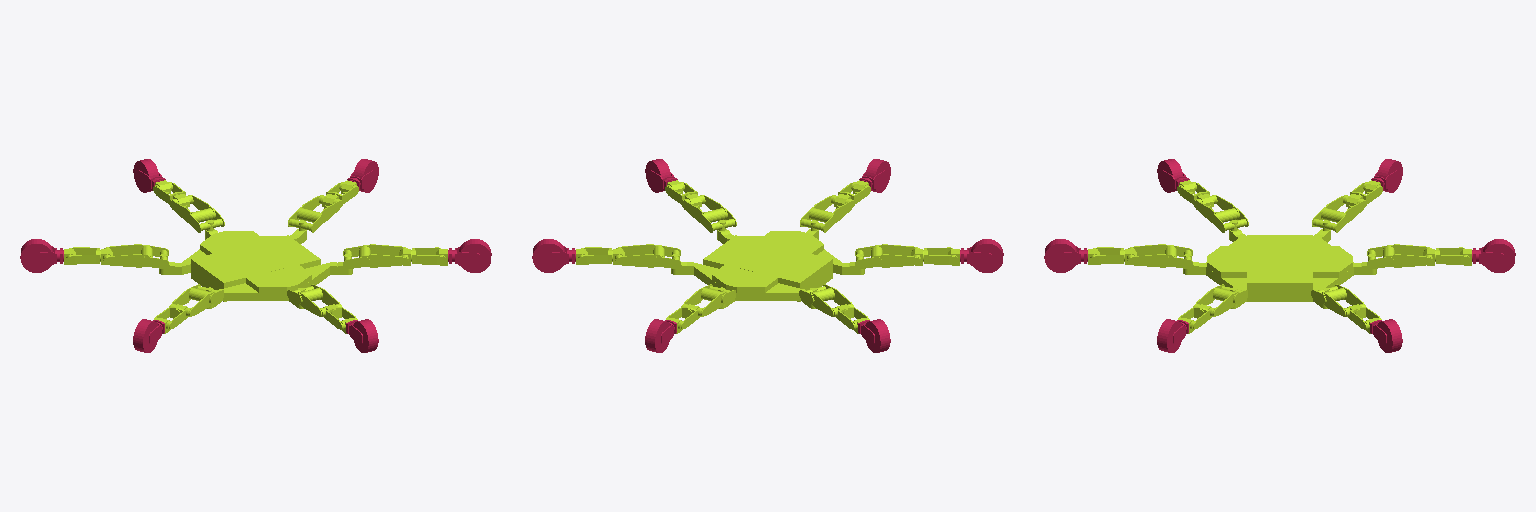
--- Facts derived from the render (not from the file) ---
The picture shows the robot from 3 angles, left to right: view 1: azimuth 30°, elevation 25°; view 2: azimuth 150°, elevation 25°; view 3: azimuth 270°, elevation 25°; orthographic projection.
Model T12 with 37 links and 36 joints (36 revolute), rooted at base_link, posed every joint at zero.
Visible links, largest first — view 1: base_link, Foot3, Foot6, Thigh6, Thigh3, Foot5, Foot4, Foot1, Foot2, Thigh1, Thigh2, Thigh4 (+1 smaller); view 2: base_link, Foot1, Foot4, Thigh4, Thigh1, Foot3, Foot2, Foot5, Foot6, Thigh5, Thigh6, Thigh2 (+1 smaller); view 3: base_link, Foot2, Foot5, Thigh2, Thigh5, Foot1, Foot6, Foot3, Foot4, Thigh3, Thigh4, Thigh1 (+1 smaller).
Link boxes in pixels (x1,y1,x2,y2): base_link: (159, 229, 352, 308); Foot3: (20, 239, 63, 272); Foot6: (448, 239, 491, 272); Thigh6: (359, 244, 408, 267); Thigh3: (103, 244, 152, 267); Foot5: (346, 319, 378, 352); Foot4: (133, 319, 164, 352); Foot1: (347, 159, 378, 192); Foot2: (133, 159, 165, 192); Thigh1: (297, 195, 342, 222); Thigh2: (169, 195, 215, 222); Thigh4: (169, 287, 213, 316); base_link: (671, 229, 864, 308); Foot1: (532, 239, 575, 272); Foot4: (960, 239, 1003, 272); Thigh4: (871, 244, 920, 267); Thigh1: (615, 244, 664, 267); Foot3: (858, 319, 890, 352); Foot2: (645, 319, 676, 352); Foot5: (859, 159, 890, 192); Foot6: (645, 159, 677, 192); Thigh5: (809, 195, 854, 222); Thigh6: (681, 195, 727, 222); Thigh2: (681, 287, 725, 316); base_link: (1183, 229, 1376, 308); Foot2: (1472, 239, 1515, 272); Foot5: (1044, 239, 1087, 272); Thigh2: (1383, 244, 1432, 267); Thigh5: (1127, 244, 1176, 267); Foot1: (1370, 319, 1402, 352); Foot6: (1157, 319, 1188, 352); Foot3: (1371, 159, 1402, 192); Foot4: (1157, 159, 1189, 192); Thigh3: (1321, 195, 1366, 222); Thigh4: (1193, 195, 1239, 222); Thigh1: (1322, 287, 1365, 316).
Bounding box of the posed robot: 8.98 × 10.23 × 0.892 m (x, y, z).
Meshes: 37 distinct files referenced, 37 mesh visuals loaded (37 binary STL).

URDF robot description (T12):
<?xml version="1.0"?>
<robot name="T12">
    <material name="lime">
        <color rgba="0.8 0.94 0.26 1" />
    </material>

    <material name="rose">
        <color rgba="0.8 0.2 0.39 1" />
    </material>

    <link name="base_link">
        <inertial>
            <origin xyz="0.015789 0.0084982 0.11668" rpy="0 0 0" />
            <mass value="266.06" />
            <inertia
                ixx="225.36"
                ixy="0.054583"
                ixz="0.010358"
                iyy="210.35"
                iyz="-0.0001937"
                izz="424.6" />
        </inertial>
        <visual>
            <origin xyz="0 0 0" rpy="0 0 0" />
            <geometry>
                <mesh filename="package://t12_description/meshes/Body.STL" />
            </geometry>
            <material name="lime" />
        </visual>
        <collision>
            <origin xyz="0 0 0" rpy="0 0 0" />
            <geometry>
                <mesh filename="package://t12_description/meshes/Body.STL" />
            </geometry>
        </collision>
    </link>

    <link name="Hip1">
        <inertial>
            <origin xyz="0.12059 0.04703 -0.043975" rpy="0 0 0" />
            <mass value="10.161" />
            <inertia
                ixx="0.69317"
                ixy="0.0073762"
                ixz="0.040711"
                iyy="0.34376"
                iyz="0.0014897"
                izz="0.9152" />
        </inertial>
        <visual>
            <origin xyz="0 0 0" rpy="0 0 0" />
            <geometry>
                <mesh filename="package://t12_description/meshes/Hip1.STL" />
            </geometry>
            <material name="lime" />
        </visual>
        <collision>
            <origin xyz="0 0 0" rpy="0 0 0" />
            <geometry>
                <mesh filename="package://t12_description/meshes/Hip1.STL" />
            </geometry>
        </collision>
    </link>
    <joint name="HY1" type="revolute">
        <origin xyz="1.7322 0.99572 0.41034" rpy="-4.4608E-16 2.8513E-16 0.5236" />
        <parent link="base_link" />
        <child link="Hip1" />
        <axis xyz="0 0 -1" />
        <limit
            lower="-3.1416"
            upper="3.1416"
            effort="2700"
            velocity="0" />
    </joint>

    <link name="Thigh1">
        <inertial>
            <origin
                xyz="0.37052 1.2567E-08 -0.0016621"
                rpy="0 0 0" />
            <mass value="14.238" />
            <inertia
                ixx="1.0008"
                ixy="7.0442E-08"
                ixz="0.0087687"
                iyy="2.0253"
                iyz="-0.00024727"
                izz="1.3252" />
        </inertial>
        <visual>
            <origin xyz="0 0 0" rpy="0 0 0" />
            <geometry>
                <mesh filename="package://t12_description/meshes/Thigh1.STL" />
            </geometry>
            <material name="lime" />
        </visual>
        <collision>
            <origin xyz="0 0 0" rpy="0 0 0" />
            <geometry>
                <mesh filename="package://t12_description/meshes/Thigh1.STL" />
            </geometry>
        </collision>
    </link>
    <joint name="HP1" type="revolute">
        <origin
            xyz="0.36808 0 0"
            rpy="-1.5708 1.2704E-14 -2.2204E-16" />
        <parent link="Hip1" />
        <child link="Thigh1" />
        <axis xyz="0 0 -1" />
        <limit
            lower="-1.9199"
            upper="1.5708"
            effort="7500"
            velocity="0" />
    </joint>

    <link name="Knee1">
        <inertial>
            <origin
                xyz="0.017762 -0.027385 0.0067752"
                rpy="0 0 0" />
            <mass
                value="5.7913" />
            <inertia
                ixx="0.12768"
                ixy="0.0042111"
                ixz="-0.00069417"
                iyy="0.12196"
                iyz="0.0012334"
                izz="0.079088" />
        </inertial>
        <visual>
            <origin
                xyz="0 0 0"
                rpy="0 0 0" />
            <geometry>
                <mesh
                    filename="package://t12_description/meshes/Knee1.STL" />
            </geometry>
            <material name="lime" />
        </visual>
        <collision>
            <origin
                xyz="0 0 0"
                rpy="0 0 0" />
            <geometry>
                <mesh
                    filename="package://t12_description/meshes/Knee1.STL" />
            </geometry>
        </collision>
    </link>
    <joint
        name="KP1"
        type="revolute">
        <origin
            xyz="0.8627 0 0"
            rpy="2.2204E-16 2.6822E-16 1.5708" />
        <parent
            link="Thigh1" />
        <child
            link="Knee1" />
        <axis
            xyz="0 0 -1" />
        <limit
            lower="-1.9199"
            upper="3.1416"
            effort="2700"
            velocity="0" />
    </joint>
    <link
        name="Shin1">
        <inertial>
            <origin
                xyz="-1.4482E-09 0.00011789 0.4127"
                rpy="0 0 0" />
            <mass
                value="10.201" />
            <inertia
                ixx="0.7541"
                ixy="-0.00016423"
                ixz="3.2671E-09"
                iyy="0.53994"
                iyz="-0.00028063"
                izz="0.35892" />
        </inertial>
        <visual>
            <origin
                xyz="0 0 0"
                rpy="0 0 0" />
            <geometry>
                <mesh
                    filename="package://t12_description/meshes/Shin1.STL" />
            </geometry>
            <material name="lime" />
        </visual>
        <collision>
            <origin
                xyz="0 0 0"
                rpy="0 0 0" />
            <geometry>
                <mesh
                    filename="package://t12_description/meshes/Shin1.STL" />
            </geometry>
        </collision>
    </link>
    <joint
        name="KR1"
        type="revolute">
        <origin
            xyz="0 0 0"
            rpy="1.5708 -2.7791E-17 8.7217E-15" />
        <parent
            link="Knee1" />
        <child
            link="Shin1" />
        <axis
            xyz="0 0 -1" />
        <limit
            lower="-3.1416"
            upper="3.1416"
            effort="900"
            velocity="0" />
    </joint>


    <link name="Ankle1">
        <inertial>
            <origin
                xyz="0.020168 -0.026001 0.0079686"
                rpy="0 0 0" />
            <mass
                value="5.108" />
            <inertia
                ixx="0.094931"
                ixy="0.0040571"
                ixz="-0.00081815"
                iyy="0.089357"
                iyz="0.00089845"
                izz="0.073015" />
        </inertial>
        <visual>
            <origin
                xyz="0 0 0"
                rpy="0 0 0" />
            <geometry>
                <mesh filename="package://t12_description/meshes/Ankle1.STL" />
            </geometry>
            <material name="lime" />
        </visual>
        <collision>
            <origin
                xyz="0 0 0"
                rpy="0 0 0" />
            <geometry>
                <mesh filename="package://t12_description/meshes/Ankle1.STL" />
            </geometry>
        </collision>
    </link>
    <joint name="AP1" type="revolute">
        <origin
            xyz="0 0 0.79818"
            rpy="-1.5708 -1.3823E-15 -9.3729E-17" />
        <parent
            link="Shin1" />
        <child
            link="Ankle1" />
        <axis
            xyz="0 0 -1" />
        <limit
            lower="-2.0944"
            upper="2.0944"
            effort="1350"
            velocity="0" />
    </joint>


    <link name="Foot1">
        <inertial>
            <origin
                xyz="-3.0189E-05 0.0041753 0.55175"
                rpy="0 0 0" />
            <mass
                value="27.416" />
            <inertia
                ixx="2.0991"
                ixy="-4.1499E-05"
                ixz="6.0881E-05"
                iyy="2.468"
                iyz="0.023298"
                izz="0.8501" />
        </inertial>
        <visual>
            <origin
                xyz="0 0 0"
                rpy="0 0 0" />
            <geometry>
                <mesh
                    filename="package://t12_description/meshes/Foot1.STL" />
            </geometry>
            <material name="rose" />
        </visual>
        <collision>
            <origin
                xyz="0 0 0"
                rpy="0 0 0" />
            <geometry>
                <mesh filename="package://t12_description/meshes/Foot1.STL" />
            </geometry>
        </collision>
    </link>
    <joint
        name="AR1"
        type="revolute">
        <origin
            xyz="0 0 0"
            rpy="1.5708 4.5989E-16 1.2639E-15" />
        <parent
            link="Ankle1" />
        <child
            link="Foot1" />
        <axis
            xyz="0 0 -1" />
        <limit
            lower="-3.1416"
            upper="3.1416"
            effort="900"
            velocity="0" />
    </joint>


    <!-- LEG 2 -->
    <link name="Hip2">
        <inertial>
            <origin
                xyz="0.11841 0.050794 -0.043975"
                rpy="0 0 0" />
            <mass value="10.161" />
            <inertia
                ixx="0.69317"
                ixy="0.0073791"
                ixz="0.040711"
                iyy="0.34375"
                iyz="0.0014908"
                izz="0.91521" />
        </inertial>
        <visual>
            <origin
                xyz="0 0 0"
                rpy="0 0 0" />
            <geometry>
                <mesh filename="package://t12_description/meshes/Hip2.STL" />
            </geometry>
            <material name="lime" />
        </visual>
        <collision>
            <origin
                xyz="0 0 0"
                rpy="0 0 0" />
            <geometry>
                <mesh filename="package://t12_description/meshes/Hip2.STL" />
            </geometry>
        </collision>
    </link>
    <joint name="HY2" type="revolute">
        <origin
            xyz="0.0037717 1.998 0.41034"
            rpy="-4.4608E-16 2.8513E-16 1.5708" />
        <parent
            link="base_link" />
        <child
            link="Hip2" />
        <axis
            xyz="0 0 -1" />
        <limit
            lower="-3.1416"
            upper="3.1416"
            effort="2700"
            velocity="0" />
    </joint>


    <link name="Thigh2">
        <inertial>
            <origin
                xyz="0.36835 1.2571E-08 0.0020978"
                rpy="0 0 0" />
            <mass
                value="14.238" />
            <inertia
                ixx="1.0008"
                ixy="7.0776E-08"
                ixz="0.0088078"
                iyy="2.0253"
                iyz="-0.00024727"
                izz="1.3252" />
        </inertial>
        <visual>
            <origin
                xyz="0 0 0"
                rpy="0 0 0" />
            <geometry>
                <mesh
                    filename="package://t12_description/meshes/Thigh2.STL" />
            </geometry>
            <material name="lime" />
        </visual>
        <collision>
            <origin
                xyz="0 0 0"
                rpy="0 0 0" />
            <geometry>
                <mesh filename="package://t12_description/meshes/Thigh2.STL" />
            </geometry>
        </collision>
    </link>
    <joint name="HP2" type="revolute">
        <origin
            xyz="0.36808 0 0"
            rpy="-1.5708 1.2704E-14 -2.1472E-16" />
        <parent link="Hip2" />
        <child link="Thigh2" />
        <axis xyz="0 0 -1" />
        <limit
            lower="-1.9199"
            upper="1.5708"
            effort="7500"
            velocity="0" />
    </joint>


    <link name="Knee2">
        <inertial>
            <origin
                xyz="0.017762 -0.025217 0.010531"
                rpy="0 0 0" />
            <mass value="5.7913" />
            <inertia
                ixx="0.12768"
                ixy="0.0042106"
                ixz="-0.00069509"
                iyy="0.12197"
                iyz="0.0012317"
                izz="0.079085" />
        </inertial>
        <visual>
            <origin xyz="0 0 0" rpy="0 0 0" />
            <geometry>
                <mesh filename="package://t12_description/meshes/Knee2.STL" />
            </geometry>
            <material name="lime" />
        </visual>
        <collision>
            <origin xyz="0 0 0" rpy="0 0 0" />
            <geometry>
                <mesh filename="package://t12_description/meshes/Knee2.STL" />
            </geometry>
        </collision>
    </link>
    <joint name="KP2" type="revolute">
        <origin
            xyz="0.8627 0 0"
            rpy="2.2937E-16 2.3338E-16 1.5708" />
        <parent link="Thigh2" />
        <child link="Knee2" />
        <axis xyz="0 0 -1" />
        <limit
            lower="-1.9199"
            upper="3.1416"
            effort="2700"
            velocity="0" />
    </joint>


    <link name="Shin2">
        <inertial>
            <origin
                xyz="-1.3842E-09 0.0038981 0.41085"
                rpy="0 0 0" />
            <mass value="10.201" />
            <inertia
                ixx="0.75448"
                ixy="-0.00016423"
                ixz="3.1853E-09"
                iyy="0.54028"
                iyz="3.2414E-05"
                izz="0.35896" />
        </inertial>
        <visual>
            <origin xyz="0 0 0" rpy="0 0 0" />
            <geometry>
                <mesh filename="package://t12_description/meshes/Shin2.STL" />
            </geometry>
            <material name="lime" />
        </visual>
        <collision>
            <origin xyz="0 0 0" rpy="0 0 0" />
            <geometry>
                <mesh filename="package://t12_description/meshes/Shin2.STL" />
            </geometry>
        </collision>
    </link>
    <joint name="KR2" type="revolute">
        <origin xyz="0 0 0" rpy="1.5708 -2.7791E-17 8.7217E-15" />
        <parent link="Knee2" />
        <child link="Shin2" />
        <axis xyz="0 0 -1" />
        <limit
            lower="-3.1416"
            upper="3.1416"
            effort="900"
            velocity="0" />
    </joint>


    <link name="Ankle2">
        <inertial>
            <origin
                xyz="0.020168 -0.023832 0.011725"
                rpy="0 0 0" />
            <mass
                value="5.108" />
            <inertia
                ixx="0.09493"
                ixy="0.0040565"
                ixz="-0.00081912"
                iyy="0.089358"
                iyz="0.00089727"
                izz="0.073013" />
        </inertial>
        <visual>
            <origin
                xyz="0 0 0"
                rpy="0 0 0" />
            <geometry>
                <mesh
                    filename="package://t12_description/meshes/Ankle2.STL" />
            </geometry>
            <material name="lime" />
        </visual>
        <collision>
            <origin
                xyz="0 0 0"
                rpy="0 0 0" />
            <geometry>
                <mesh filename="package://t12_description/meshes/Ankle2.STL" />
            </geometry>
        </collision>
    </link>
    <joint name="AP2" type="revolute">
        <origin
            xyz="0 0 0.79818"
            rpy="-1.5708 -1.4672E-15 -1.2695E-16" />
        <parent
            link="Shin2" />
        <child
            link="Ankle2" />
        <axis
            xyz="0 0 -1" />
        <limit
            lower="-2.0944"
            upper="2.0944"
            effort="1350"
            velocity="0" />
    </joint>


    <link name="Foot2">
        <inertial>
            <origin
                xyz="-3.0121E-05 0.007929 0.54959"
                rpy="0 0 0" />
            <mass
                value="27.416" />
            <inertia
                ixx="2.0992"
                ixy="-4.1277E-05"
                ixz="6.0958E-05"
                iyy="2.468"
                iyz="0.023238"
                izz="0.85011" />
        </inertial>
        <visual>
            <origin
                xyz="0 0 0"
                rpy="0 0 0" />
            <geometry>
                <mesh
                    filename="package://t12_description/meshes/Foot2.STL" />
            </geometry>
            <material name="rose" />
        </visual>
        <collision>
            <origin
                xyz="0 0 0"
                rpy="0 0 0" />
            <geometry>
                <mesh
                    filename="package://t12_description/meshes/Foot2.STL" />
            </geometry>
        </collision>
    </link>
    <joint name="AR2" type="revolute">
        <origin
            xyz="0 0 0"
            rpy="1.5708 4.2667E-16 1.3488E-15" />
        <parent
            link="Ankle2" />
        <child
            link="Foot2" />
        <axis
            xyz="0 0 -1" />
        <limit
            lower="-3.1416"
            upper="3.1416"
            effort="900"
            velocity="0" />
    </joint>


    <!-- LEG 3 -->
    <link name="Hip3">
        <inertial>
            <origin
                xyz="0.12059 0.054559 -0.043975"
                rpy="0 0 0" />
            <mass value="10.161" />
            <inertia
                ixx="0.69318"
                ixy="0.0073858"
                ixz="0.040711"
                iyy="0.34376"
                iyz="0.0014917"
                izz="0.91522" />
        </inertial>
        <visual>
            <origin
                xyz="0 0 0"
                rpy="0 0 0" />
            <geometry>
                <mesh filename="package://t12_description/meshes/Hip3.STL" />
            </geometry>
            <material name="lime" />
        </visual>
        <collision>
            <origin
                xyz="0 0 0"
                rpy="0 0 0" />
            <geometry>
                <mesh filename="package://t12_description/meshes/Hip3.STL" />
            </geometry>
        </collision>
    </link>
    <joint name="HY3" type="revolute">
        <origin
            xyz="-1.7284 1.0023 0.41034"
            rpy="-4.4608E-16 3.1089E-16 2.618" />
        <parent
            link="base_link" />
        <child
            link="Hip3" />
        <axis
            xyz="0 0 -1" />
        <limit
            lower="-3.1416"
            upper="3.1416"
            effort="2700"
            velocity="0" />
    </joint>


    <link name="Thigh3">
        <inertial>
            <origin
                xyz="0.37052 1.2575E-08 0.0058577"
                rpy="0 0 0" />
            <mass
                value="14.238" />
            <inertia
                ixx="1.0008"
                ixy="7.0333E-08"
                ixz="0.0088473"
                iyy="2.0253"
                iyz="-0.00024727"
                izz="1.3252" />
        </inertial>
        <visual>
            <origin
                xyz="0 0 0"
                rpy="0 0 0" />
            <geometry>
                <mesh
                    filename="package://t12_description/meshes/Thigh3.STL" />
            </geometry>
            <material name="lime" />
        </visual>
        <collision>
            <origin
                xyz="0 0 0"
                rpy="0 0 0" />
            <geometry>
                <mesh
                    filename="package://t12_description/meshes/Thigh3.STL" />
            </geometry>
        </collision>
    </link>
    <joint name="HP3" type="revolute">
        <origin
            xyz="0.36808 0 0"
            rpy="-1.5708 1.2512E-14 5.7201E-30" />
        <parent
            link="Hip3" />
        <child
            link="Thigh3" />
        <axis
            xyz="0 0 -1" />
        <limit
            lower="-1.9199"
            upper="1.5708"
            effort="7500"
            velocity="0" />
    </joint>


    <link name="Knee3">
        <inertial>
            <origin
                xyz="0.017762 -0.027385 0.014286"
                rpy="0 0 0" />
            <mass
                value="5.7913" />
            <inertia
                ixx="0.12768"
                ixy="0.0042111"
                ixz="-0.00069602"
                iyy="0.12197"
                iyz="0.001229"
                izz="0.079087" />
        </inertial>
        <visual>
            <origin
                xyz="0 0 0"
                rpy="0 0 0" />
            <geometry>
                <mesh filename="package://t12_description/meshes/Knee3.STL" />
            </geometry>
            <material name="lime" />
        </visual>
        <collision>
            <origin
                xyz="0 0 0"
                rpy="0 0 0" />
            <geometry>
                <mesh filename="package://t12_description/meshes/Knee3.STL" />
            </geometry>
        </collision>
    </link>
    <joint name="KP3" type="revolute">
        <origin
            xyz="0.8627 0 0"
            rpy="2.2204E-16 3.2661E-16 1.5708" />
        <parent
            link="Thigh3" />
        <child
            link="Knee3" />
        <axis
            xyz="0 0 -1" />
        <limit
            lower="-1.9199"
            upper="3.1416"
            effort="2700"
            velocity="0" />
    </joint>


    <link name="Shin3">
        <inertial>
            <origin
                xyz="-1.4539E-09 0.0076634 0.41302"
                rpy="0 0 0" />
            <mass
                value="10.201" />
            <inertia
                ixx="0.75448"
                ixy="-0.00016423"
                ixz="3.2688E-09"
                iyy="0.54028"
                iyz="3.6604E-05"
                izz="0.35897" />
        </inertial>
        <visual>
            <origin
                xyz="0 0 0"
                rpy="0 0 0" />
            <geometry>
                <mesh filename="package://t12_description/meshes/Shin3.STL" />
            </geometry>
            <material name="lime" />
        </visual>
        <collision>
            <origin
                xyz="0 0 0"
                rpy="0 0 0" />
            <geometry>
                <mesh filename="package://t12_description/meshes/Shin3.STL" />
            </geometry>
        </collision>
    </link>
    <joint name="KR3" type="revolute">
        <origin
            xyz="0 0 0"
            rpy="1.5708 -2.7791E-17 8.7217E-15" />
        <parent
            link="Knee3" />
        <child
            link="Shin3" />
        <axis
            xyz="0 0 -1" />
        <limit
            lower="-3.1416"
            upper="3.1416"
            effort="900"
            velocity="0" />
    </joint>


    <link name="Ankle3">
        <inertial>
            <origin
                xyz="0.020167 -0.026001 0.015481"
                rpy="0 0 0" />
            <mass
                value="5.108" />
            <inertia
                ixx="0.094934"
                ixy="0.004057"
                ixz="-0.00082009"
                iyy="0.089361"
                iyz="0.00089501"
                izz="0.073015" />
        </inertial>
        <visual>
            <origin
                xyz="0 0 0"
                rpy="0 0 0" />
            <geometry>
                <mesh
                    filename="package://t12_description/meshes/Ankle3.STL" />
            </geometry>
            <material name="lime" />
        </visual>
        <collision>
            <origin
                xyz="0 0 0"
                rpy="0 0 0" />
            <geometry>
                <mesh
                    filename="package://t12_description/meshes/Ankle3.STL" />
            </geometry>
        </collision>
    </link>
    <joint name="AP3" type="revolute">
        <origin
            xyz="0 0 0.79818"
            rpy="-1.5708 -1.426E-15 -1.3449E-16" />
        <parent
            link="Shin3" />
        <child
            link="Ankle3" />
        <axis
            xyz="0 0 -1" />
        <limit
            lower="-2.0944"
            upper="2.0944"
            effort="1350"
            velocity="0" />
    </joint>


    <link name="Foot3">
        <inertial>
            <origin
                xyz="-3.0139E-05 0.011683 0.55175"
                rpy="0 0 0" />
            <mass
                value="27.416" />
            <inertia
                ixx="2.0991"
                ixy="-4.1381E-05"
                ixz="6.0898E-05"
                iyy="2.468"
                iyz="0.023183"
                izz="0.85012" />
        </inertial>
        <visual>
            <origin
                xyz="0 0 0"
                rpy="0 0 0" />
            <geometry>
                <mesh filename="package://t12_description/meshes/Foot3.STL" />
            </geometry>
            <material name="rose" />
        </visual>
        <collision>
            <origin
                xyz="0 0 0"
                rpy="0 0 0" />
            <geometry>
                <mesh filename="package://t12_description/meshes/Foot3.STL" />
            </geometry>
        </collision>
    </link>
    <joint name="AR3" type="revolute">
        <origin
            xyz="0 0 0"
            rpy="1.5708 4.1913E-16 1.3076E-15" />
        <parent
            link="Ankle3" />
        <child
            link="Foot3" />
        <axis
            xyz="0 0 -1" />
        <limit
            lower="-3.1416"
            upper="3.1416"
            effort="900"
            velocity="0" />
    </joint>


    <!-- LEG 4 -->
    <link name="Hip4">
        <inertial>
            <origin
                xyz="0.12059 0.04703 -0.043975"
                rpy="0 0 0" />
            <mass
                value="10.161" />
            <inertia
                ixx="0.69317"
                ixy="0.0073762"
                ixz="0.040711"
                iyy="0.34376"
                iyz="0.0014897"
                izz="0.9152" />
        </inertial>
        <visual>
            <origin
                xyz="0 0 0"
                rpy="0 0 0" />
            <geometry>
                <mesh filename="package://t12_description/meshes/Hip4.STL" />
            </geometry>
            <material name="lime" />
        </visual>
        <collision>
            <origin
                xyz="0 0 0"
                rpy="0 0 0" />
            <geometry>
                <mesh
                    filename="package://t12_description/meshes/Hip4.STL" />
            </geometry>
        </collision>
    </link>
    <joint name="HY4"
        type="revolute">
        <origin
            xyz="-1.7322 -0.99572 0.41034"
            rpy="-4.4608E-16 2.8513E-16 -2.618" />
        <parent
            link="base_link" />
        <child
            link="Hip4" />
        <axis
            xyz="0 0 -1" />
        <limit
            lower="-3.1416"
            upper="3.1416"
            effort="2700"
            velocity="0" />
    </joint>


    <link name="Thigh4">
        <inertial>
            <origin
                xyz="0.37052 1.2567E-08 -0.0016621"
                rpy="0 0 0" />
            <mass
                value="14.238" />
            <inertia
                ixx="1.0008"
                ixy="7.0442E-08"
                ixz="0.0087687"
                iyy="2.0253"
                iyz="-0.00024727"
                izz="1.3252" />
        </inertial>
        <visual>
            <origin
                xyz="0 0 0"
                rpy="0 0 0" />
            <geometry>
                <mesh filename="package://t12_description/meshes/Thigh4.STL" />
            </geometry>
            <material name="lime" />
        </visual>
        <collision>
            <origin
                xyz="0 0 0"
                rpy="0 0 0" />
            <geometry>
                <mesh filename="package://t12_description/meshes/Thigh4.STL" />
            </geometry>
        </collision>
    </link>
    <joint name="HP4" type="revolute">
        <origin
            xyz="0.36808 0 0"
            rpy="-1.5708 1.2704E-14 -2.7756E-16" />
        <parent
            link="Hip4" />
        <child
            link="Thigh4" />
        <axis
            xyz="0 0 -1" />
        <limit
            lower="-1.9199"
            upper="1.5708"
            effort="7500"
            velocity="0" />
    </joint>


    <link name="Knee4">
        <inertial>
            <origin
                xyz="0.017762 -0.027385 0.0067752"
                rpy="0 0 0" />
            <mass
                value="5.7913" />
            <inertia
                ixx="0.12768"
                ixy="0.0042111"
                ixz="-0.00069417"
                iyy="0.12196"
                iyz="0.0012334"
                izz="0.079088" />
        </inertial>
        <visual>
            <origin
                xyz="0 0 0"
                rpy="0 0 0" />
            <geometry>
                <mesh filename="package://t12_description/meshes/Knee4.STL" />
            </geometry>
            <material name="lime" />
        </visual>
        <collision>
            <origin
                xyz="0 0 0"
                rpy="0 0 0" />
            <geometry>
                <mesh filename="package://t12_description/meshes/Knee4.STL" />
            </geometry>
        </collision>
    </link>
    <joint name="KP4" type="revolute">
        <origin
            xyz="0.8627 0 0"
            rpy="2.2204E-16 2.645E-16 1.5708" />
        <parent
            link="Thigh4" />
        <child
            link="Knee4" />
        <axis
            xyz="0 0 -1" />
        <limit
            lower="-1.9199"
            upper="3.1416"
            effort="2700"
            velocity="0" />
    </joint>


    <link name="Shin4">
        <inertial>
            <origin
                xyz="-1.4482E-09 0.00011789 0.4127"
                rpy="0 0 0" />
            <mass
                value="10.201" />
            <inertia
                ixx="0.7541"
                ixy="-0.00016423"
                ixz="3.2671E-09"
                iyy="0.53994"
                iyz="-0.00028063"
                izz="0.35892" />
        </inertial>
        <visual>
            <origin
                xyz="0 0 0"
                rpy="0 0 0" />
            <geometry>
                <mesh filename="package://t12_description/meshes/Shin4.STL" />
            </geometry>
            <material name="lime" />
        </visual>
        <collision>
            <origin
                xyz="0 0 0"
                rpy="0 0 0" />
            <geometry>
                <mesh filename="package://t12_description/meshes/Shin4.STL" />
            </geometry>
        </collision>
    </link>
    <joint name="KR4" type="revolute">
        <origin
            xyz="0 0 0"
            rpy="1.5708 -2.7791E-17 8.7217E-15" />
        <parent
            link="Knee4" />
        <child
            link="Shin4" />
        <axis
            xyz="0 0 -1" />
        <limit
            lower="-3.1416"
            upper="3.1416"
            effort="900"
            velocity="0" />
    </joint>


    <link name="Ankle4">
        <inertial>
            <origin
                xyz="0.020168 -0.026001 0.0079686"
                rpy="0 0 0" />
            <mass
                value="5.108" />
            <inertia
                ixx="0.094931"
                ixy="0.0040571"
                ixz="-0.00081815"
                iyy="0.089357"
                iyz="0.00089845"
                izz="0.073015" />
        </inertial>
        <visual>
            <origin
                xyz="0 0 0"
                rpy="0 0 0" />
            <geometry>
                <mesh filename="package://t12_description/meshes/Ankle4.STL" />
            </geometry>
            <material name="lime" />
        </visual>
        <collision>
            <origin
                xyz="0 0 0"
                rpy="0 0 0" />
            <geometry>
                <mesh
                    filename="package://t12_description/meshes/Ankle4.STL" />
            </geometry>
        </collision>
    </link>
    <joint name="AP4" type="revolute">
        <origin
            xyz="0 0 0.79818"
            rpy="-1.5708 -1.3823E-15 -9.3729E-17" />
        <parent
            link="Shin4" />
        <child
            link="Ankle4" />
        <axis
            xyz="0 0 -1" />
        <limit
            lower="-2.0944"
            upper="2.0944"
            effort="1350"
            velocity="0" />
    </joint>


    <link name="Foot4">
        <inertial>
            <origin
                xyz="-3.0257E-05 0.0041752 0.55175"
                rpy="0 0 0" />
            <mass
                value="27.416" />
            <inertia
                ixx="2.0991"
                ixy="-4.1743E-05"
                ixz="6.0625E-05"
                iyy="2.468"
                iyz="0.023298"
                izz="0.8501" />
        </inertial>
        <visual>
            <origin
                xyz="0 0 0"
                rpy="0 0 0" />
            <geometry>
                <mesh filename="package://t12_description/meshes/Foot4.STL" />
            </geometry>
            <material name="rose" />
        </visual>
        <collision>
            <origin
                xyz="0 0 0"
                rpy="0 0 0" />
            <geometry>
                <mesh filename="package://t12_description/meshes/Foot4.STL" />
            </geometry>
        </collision>
    </link>
    <joint name="AR4" type="revolute">
        <origin
            xyz="0 0 0"
            rpy="1.5708 4.5989E-16 1.2639E-15" />
        <parent
            link="Ankle4" />
        <child
            link="Foot4" />
        <axis
            xyz="0 0 -1" />
        <limit
            lower="-3.1416"
            upper="3.1416"
            effort="900"
            velocity="0" />
    </joint>


    <!-- LEG 5 -->
    <link name="Hip5">
        <inertial>
            <origin
                xyz="0.11841 0.050794 -0.043975"
                rpy="0 0 0" />
            <mass
                value="10.161" />
            <inertia
                ixx="0.69317"
                ixy="0.0073791"
                ixz="0.040711"
                iyy="0.34375"
                iyz="0.0014908"
                izz="0.91521" />
        </inertial>
        <visual>
            <origin
                xyz="0 0 0"
                rpy="0 0 0" />
            <geometry>
                <mesh filename="package://t12_description/meshes/Hip5.STL" />
            </geometry>
            <material name="lime" />
        </visual>
        <collision>
            <origin
                xyz="0 0 0"
                rpy="0 0 0" />
            <geometry>
                <mesh filename="package://t12_description/meshes/Hip5.STL" />
            </geometry>
        </collision>
    </link>
    <joint name="HY5" type="revolute">
        <origin
            xyz="-0.0037717 -1.998 0.41034"
            rpy="-4.4608E-16 2.8513E-16 -1.5708" />
        <parent
            link="base_link" />
        <child
            link="Hip5" />
        <axis
            xyz="0 0 -1" />
        <limit
            lower="-3.1416"
            upper="3.1416"
            effort="2700"
            velocity="0" />
    </joint>


    <link name="Thigh5">
        <inertial>
            <origin
                xyz="0.36835 1.2571E-08 0.0020978"
                rpy="0 0 0" />
            <mass
                value="14.238" />
            <inertia
                ixx="1.0008"
                ixy="7.0776E-08"
                ixz="0.0088078"
                iyy="2.0253"
                iyz="-0.00024727"
                izz="1.3252" />
        </inertial>
        <visual>
            <origin
                xyz="0 0 0"
                rpy="0 0 0" />
            <geometry>
                <mesh filename="package://t12_description/meshes/Thigh5.STL" />
            </geometry>
            <material name="lime" />
        </visual>
        <collision>
            <origin
                xyz="0 0 0"
                rpy="0 0 0" />
            <geometry>
                <mesh filename="package://t12_description/meshes/Thigh5.STL" />
            </geometry>
        </collision>
    </link>
    <joint name="HP5" type="revolute">
        <origin
            xyz="0.36808 0 0"
            rpy="-1.5708 1.2704E-14 -1.1102E-16" />
        <parent
            link="Hip5" />
        <child
            link="Thigh5" />
        <axis
            xyz="0 0 -1" />
        <limit
            lower="-1.9199"
            upper="1.5708"
            effort="7500"
            velocity="0" />
    </joint>


    <link name="Knee5">
        <inertial>
            <origin
                xyz="0.017762 -0.025217 0.010531"
                rpy="0 0 0" />
            <mass
                value="5.7913" />
            <inertia
                ixx="0.12768"
                ixy="0.0042106"
                ixz="-0.00069509"
                iyy="0.12197"
                iyz="0.0012317"
                izz="0.079085" />
        </inertial>
        <visual>
            <origin
                xyz="0 0 0"
                rpy="0 0 0" />
            <geometry>
                <mesh filename="package://t12_description/meshes/Knee5.STL" />
            </geometry>
            <material name="lime" />
        </visual>
        <collision>
            <origin
                xyz="0 0 0"
                rpy="0 0 0" />
            <geometry>
                <mesh filename="package://t12_description/meshes/Knee5.STL" />
            </geometry>
        </collision>
    </link>
    <joint name="KP5" type="revolute">
        <origin
            xyz="0.8627 0 0"
            rpy="3.3307E-16 2.741E-16 1.5708" />
        <parent
            link="Thigh5" />
        <child
            link="Knee5" />
        <axis
            xyz="0 0 -1" />
        <limit
            lower="-1.9199"
            upper="3.1416"
            effort="2700"
            velocity="0" />
    </joint>


    <link name="Shin5">
        <inertial>
            <origin
                xyz="-1.3855E-09 0.0038831 0.41053"
                rpy="0 0 0" />
            <mass
                value="10.201" />
            <inertia
                ixx="0.75409"
                ixy="-0.00016423"
                ixz="3.1801E-09"
                iyy="0.53993"
                iyz="-0.00027675"
                izz="0.35892" />
        </inertial>
        <visual>
            <origin
                xyz="0 0 0"
                rpy="0 0 0" />
            <geometry>
                <mesh filename="package://t12_description/meshes/Shin5.STL" />
            </geometry>
            <material name="lime" />
        </visual>
        <collision>
            <origin
                xyz="0 0 0"
                rpy="0 0 0" />
            <geometry>
                <mesh filename="package://t12_description/meshes/Shin5.STL" />
            </geometry>
        </collision>
    </link>
    <joint name="KR5" type="revolute">
        <origin
            xyz="0 0 0"
            rpy="1.5708 -2.7791E-17 8.7217E-15" />
        <parent
            link="Knee5" />
        <child
            link="Shin5" />
        <axis
            xyz="0 0 -1" />
        <limit
            lower="-3.1416"
            upper="3.1416"
            effort="900"
            velocity="0" />
    </joint>


    <link name="Ankle5">
        <inertial>
            <origin
                xyz="0.020168 -0.023832 0.011725"
                rpy="0 0 0" />
            <mass
                value="5.108" />
            <inertia
                ixx="0.09493"
                ixy="0.0040565"
                ixz="-0.00081912"
                iyy="0.089358"
                iyz="0.00089727"
                izz="0.073013" />
        </inertial>
        <visual>
            <origin
                xyz="0 0 0"
                rpy="0 0 0" />
            <geometry>
                <mesh filename="package://t12_description/meshes/Ankle5.STL" />
            </geometry>
            <material name="lime" />
        </visual>
        <collision>
            <origin
                xyz="0 0 0"
                rpy="0 0 0" />
            <geometry>
                <mesh
                    filename="package://t12_description/meshes/Ankle5.STL" />
            </geometry>
        </collision>
    </link>
    <joint name="AP5" type="revolute">
        <origin
            xyz="0 0 0.79818"
            rpy="-1.5708 -1.4672E-15 -1.2364E-16" />
        <parent
            link="Shin5" />
        <child
            link="Ankle5" />
        <axis
            xyz="0 0 -1" />
        <limit
            lower="-2.0944"
            upper="2.0944"
            effort="1350"
            velocity="0" />
    </joint>

    <link name="Foot5">
        <inertial>
            <origin
                xyz="-3.0002E-05 0.0079289 0.54959"
                rpy="0 0 0" />
            <mass
                value="27.416" />
            <inertia
                ixx="2.0992"
                ixy="-4.0815E-05"
                ixz="6.1178E-05"
                iyy="2.468"
                iyz="0.023238"
                izz="0.85011" />
        </inertial>
        <visual>
            <origin
                xyz="0 0 0"
                rpy="0 0 0" />
            <geometry>
                <mesh filename="package://t12_description/meshes/Foot5.STL" />
            </geometry>
            <material name="rose" />
        </visual>
        <collision>
            <origin
                xyz="0 0 0"
                rpy="0 0 0" />
            <geometry>
                <mesh filename="package://t12_description/meshes/Foot5.STL" />
            </geometry>
        </collision>
    </link>
    <joint name="AR5" type="revolute">
        <origin
            xyz="0 0 0"
            rpy="1.5708 4.2998E-16 1.3488E-15" />
        <parent
            link="Ankle5" />
        <child
            link="Foot5" />
        <axis
            xyz="0 0 -1" />
        <limit
            lower="-3.1416"
            upper="3.1416"
            effort="900"
            velocity="0" />
    </joint>


    <!-- LEG 6 -->
    <link name="Hip6">
        <inertial>
            <origin
                xyz="0.12059 0.054559 -0.043975"
                rpy="0 0 0" />
            <mass
                value="10.161" />
            <inertia
                ixx="0.69318"
                ixy="0.0073858"
                ixz="0.040711"
                iyy="0.34376"
                iyz="0.0014917"
                izz="0.91522" />
        </inertial>
        <visual>
            <origin
                xyz="0 0 0"
                rpy="0 0 0" />
            <geometry>
                <mesh filename="package://t12_description/meshes/Hip6.STL" />
            </geometry>
            <material name="lime" />
        </visual>
        <collision>
            <origin
                xyz="0 0 0"
                rpy="0 0 0" />
            <geometry>
                <mesh filename="package://t12_description/meshes/Hip6.STL" />
            </geometry>
        </collision>
    </link>
    <joint
        name="HY6"
        type="revolute">
        <origin
            xyz="1.7284 -1.0023 0.41034"
            rpy="-4.4608E-16 2.8513E-16 -0.5236" />
        <parent
            link="base_link" />
        <child
            link="Hip6" />
        <axis
            xyz="0 0 -1" />
        <limit
            lower="-3.1416"
            upper="3.1416"
            effort="2700"
            velocity="0" />
    </joint>


    <link name="Thigh6">
        <inertial>
            <origin
                xyz="0.37052 1.2575E-08 0.0058577"
                rpy="0 0 0" />
            <mass
                value="14.238" />
            <inertia
                ixx="1.0008"
                ixy="7.0333E-08"
                ixz="0.0088473"
                iyy="2.0253"
                iyz="-0.00024727"
                izz="1.3252" />
        </inertial>
        <visual>
            <origin
                xyz="0 0 0"
                rpy="0 0 0" />
            <geometry>
                <mesh filename="package://t12_description/meshes/Thigh6.STL" />
            </geometry>
            <material name="lime" />
        </visual>
        <collision>
            <origin
                xyz="0 0 0"
                rpy="0 0 0" />
            <geometry>
                <mesh filename="package://t12_description/meshes/Thigh6.STL" />
            </geometry>
        </collision>
    </link>
    <joint name="HP6" type="revolute">
        <origin
            xyz="0.36808 0 0"
            rpy="-1.5708 1.2704E-14 -2.2204E-16" />
        <parent
            link="Hip6" />
        <child
            link="Thigh6" />
        <axis
            xyz="0 0 -1" />
        <limit
            lower="-1.9199"
            upper="1.5708"
            effort="7500"
            velocity="0" />
    </joint>


    <link name="Knee6">
        <inertial>
            <origin
                xyz="0.017762 -0.027385 0.014286"
                rpy="0 0 0" />
            <mass
                value="5.7913" />
            <inertia
                ixx="0.12768"
                ixy="0.0042111"
                ixz="-0.00069602"
                iyy="0.12197"
                iyz="0.001229"
                izz="0.079087" />
        </inertial>
        <visual>
            <origin
                xyz="0 0 0"
                rpy="0 0 0" />
            <geometry>
                <mesh filename="package://t12_description/meshes/Knee6.STL" />
            </geometry>
            <material name="lime" />
        </visual>
        <collision>
            <origin
                xyz="0 0 0"
                rpy="0 0 0" />
            <geometry>
                <mesh filename="package://t12_description/meshes/Knee6.STL" />
            </geometry>
        </collision>
    </link>
    <joint name="KP6" type="revolute">
        <origin
            xyz="0.8627 0 0"
            rpy="2.7756E-16 2.3418E-16 1.5708" />
        <parent
            link="Thigh6" />
        <child
            link="Knee6" />
        <axis
            xyz="0 0 -1" />
        <limit
            lower="-1.9199"
            upper="3.1416"
            effort="2700"
            velocity="0" />
    </joint>


    <link name="Shin6">
        <inertial>
            <origin
                xyz="-1.454E-09 0.0076484 0.4127"
                rpy="0 0 0" />
            <mass
                value="10.201" />
            <inertia
                ixx="0.7541"
                ixy="-0.00016423"
                ixz="3.2639E-09"
                iyy="0.53994"
                iyz="-0.00027259"
                izz="0.35892" />
        </inertial>
        <visual>
            <origin
                xyz="0 0 0"
                rpy="0 0 0" />
            <geometry>
                <mesh filename="package://t12_description/meshes/Shin6.STL" />
            </geometry>
            <material name="lime" />
        </visual>
        <collision>
            <origin
                xyz="0 0 0"
                rpy="0 0 0" />
            <geometry>
                <mesh filename="package://t12_description/meshes/Shin6.STL" />
            </geometry>
        </collision>
    </link>
    <joint name="KR6" type="revolute">
        <origin
            xyz="0 0 0"
            rpy="1.5708 -2.7791E-17 8.7217E-15" />
        <parent
            link="Knee6" />
        <child
            link="Shin6" />
        <axis
            xyz="0 0 -1" />
        <limit
            lower="-3.1416"
            upper="3.1416"
            effort="900"
            velocity="0" />
    </joint>


    <link name="Ankle6">
        <inertial>
            <origin
                xyz="0.020167 -0.026001 0.015481"
                rpy="0 0 0" />
            <mass
                value="5.108" />
            <inertia
                ixx="0.094934"
                ixy="0.004057"
                ixz="-0.00082009"
                iyy="0.089361"
                iyz="0.00089501"
                izz="0.073015" />
        </inertial>
        <visual>
            <origin
                xyz="0 0 0"
                rpy="0 0 0" />
            <geometry>
                <mesh filename="package://t12_description/meshes/Ankle6.STL" />
            </geometry>
            <material name="lime" />
        </visual>
        <collision>
            <origin
                xyz="0 0 0"
                rpy="0 0 0" />
            <geometry>
                <mesh filename="package://t12_description/meshes/Ankle6.STL" />
            </geometry>
        </collision>
    </link>
    <joint name="AP6" type="revolute">
        <origin
            xyz="0 0 0.79818"
            rpy="-1.5708 -1.4121E-15 -1.1045E-16" />
        <parent
            link="Shin6" />
        <child
            link="Ankle6" />
        <axis
            xyz="0 0 -1" />
        <limit
            lower="-2.0944"
            upper="2.0944"
            effort="1350"
            velocity="0" />
    </joint>


    <link name="Foot6">
        <inertial>
            <origin
                xyz="-3.0159E-05 0.011683 0.55175"
                rpy="0 0 0" />
            <mass
                value="27.416" />
            <inertia
                ixx="2.0991"
                ixy="-4.1451E-05"
                ixz="6.0863E-05"
                iyy="2.468"
                iyz="0.023183"
                izz="0.85012" />
        </inertial>
        <visual>
            <origin
                xyz="0 0 0"
                rpy="0 0 0" />
            <geometry>
                <mesh filename="package://t12_description/meshes/Foot6.STL" />
            </geometry>
            <material name="rose" />
        </visual>
        <collision>
            <origin
                xyz="0 0 0"
                rpy="0 0 0" />
            <geometry>
                <mesh filename="package://t12_description/meshes/Foot6.STL" />
            </geometry>
        </collision>
    </link>
    <joint name="AR6" type="revolute">
        <origin
            xyz="0 0 0"
            rpy="1.5708 4.4317E-16 1.2937E-15" />
        <parent
            link="Ankle6" />
        <child
            link="Foot6" />
        <axis
            xyz="0 0 -1" />
        <limit
            lower="-3.1416"
            upper="3.1416"
            effort="900"
            velocity="0" />
    </joint>
</robot>
